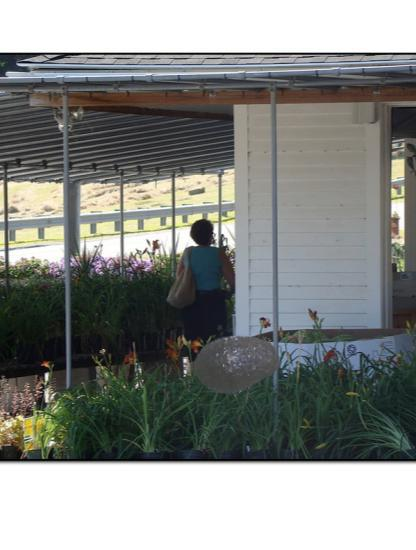Avocado: (194, 321, 281, 408)
